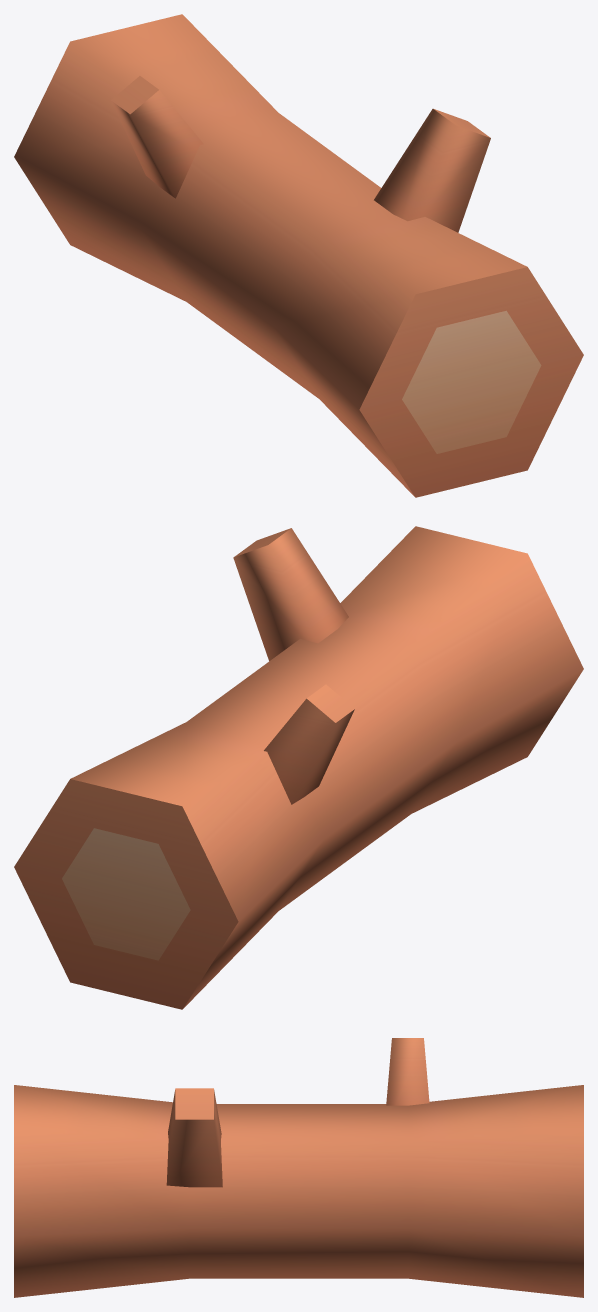
The model's file is kenney-survival-tree-log-small.glb.
The picture shows the model from 3 angles, top to bottom: view 1: azimuth 30°, elevation 25°; view 2: azimuth 150°, elevation 25°; view 3: azimuth 270°, elevation 25°; orthographic projection. The views are drawn at different scales.
Parts seen in each view (by area): view 1: tree-log-small; view 2: tree-log-small; view 3: tree-log-small.
Boxes of the visible parts, x1,y1,x2,y2 form: tree-log-small: (14, 14, 583, 497); tree-log-small: (14, 526, 583, 1009); tree-log-small: (14, 1038, 583, 1297).
Bounding box in the file's own units: 0.2495 × 0.2771 × 0.65.
Materials: 1 (1 with a texture image).
